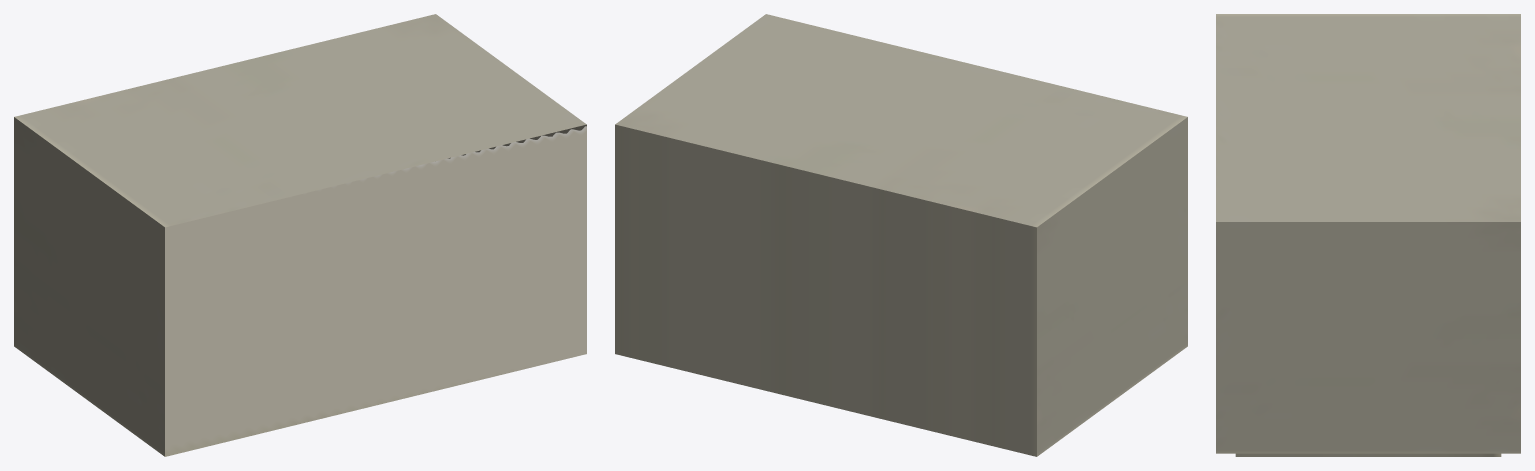
File: pz_counter_white_wall.obj
3 views of the same model, side by side, from view 1: azimuth 30°, elevation 25°; view 2: azimuth 150°, elevation 25°; view 3: azimuth 270°, elevation 25° (orthographic).
Size of the model in its own units: 1 by 0.536 by 0.62.
Materials: 1 (1 with a texture image).
